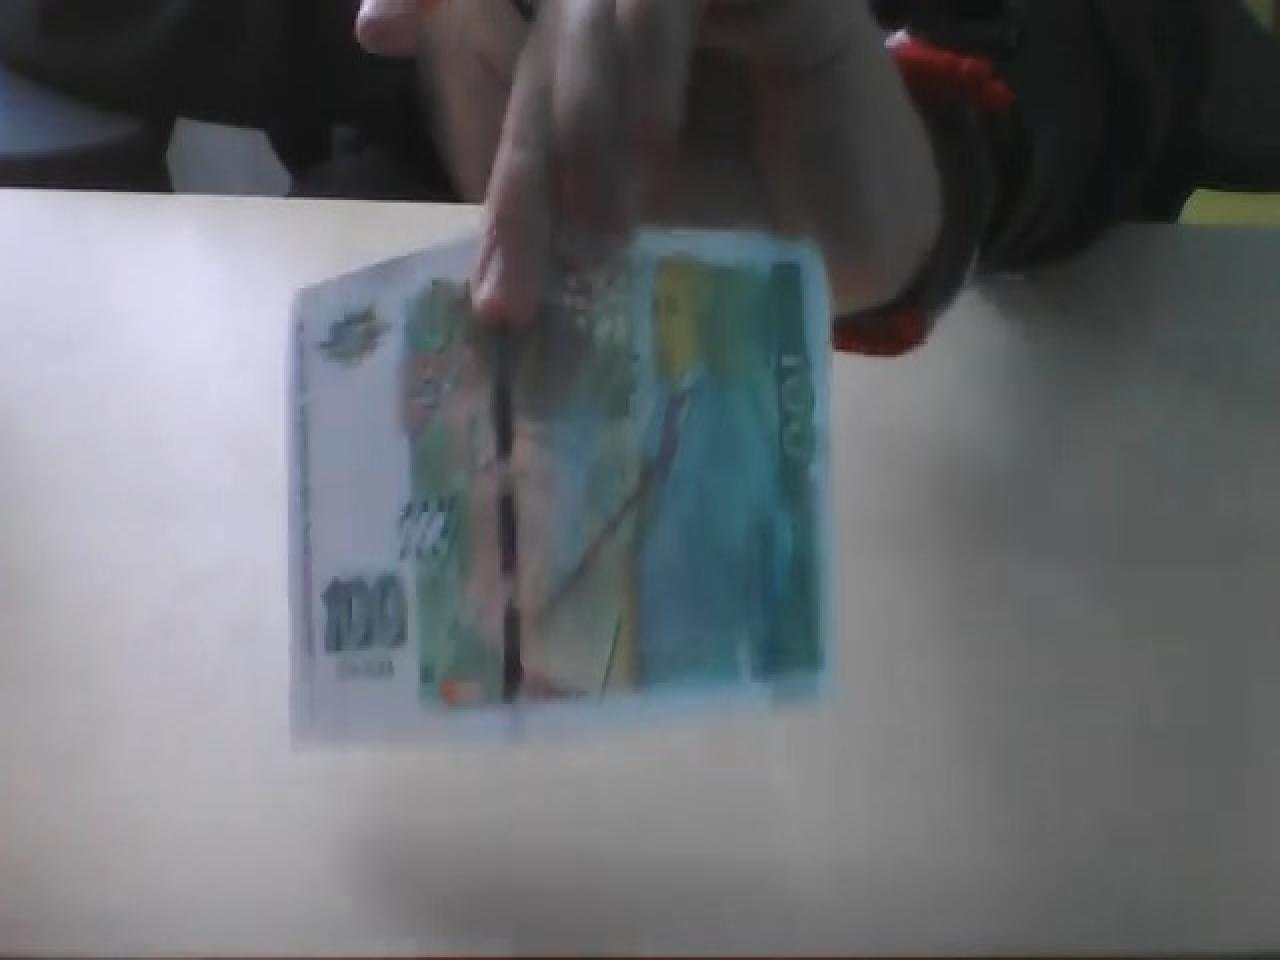100leva: (288, 216, 836, 744)
